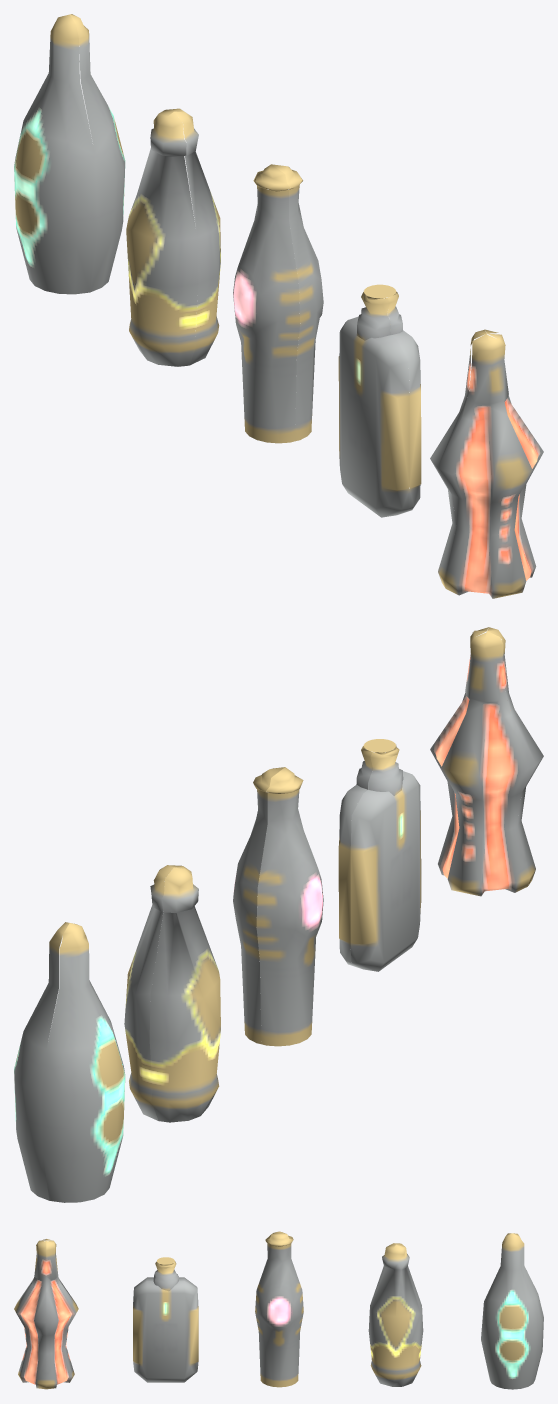
File: bar_bottles_4_a.glb
3 views of the same model, one above another, from view 1: azimuth 30°, elevation 25°; view 2: azimuth 150°, elevation 25°; view 3: azimuth 270°, elevation 25° (orthographic). The views are drawn at different scales.
Visible parts, largest first — view 1: bar_bottles_4; view 2: bar_bottles_4; view 3: bar_bottles_4.
Part boxes in pixels (x1,y1,x2,y2): bar_bottles_4: (14, 14, 543, 598); bar_bottles_4: (14, 627, 543, 1202); bar_bottles_4: (14, 1231, 543, 1389).
Size of the model in its own units: 0.1321 by 0.3335 by 1.09.
1 material, 1 textured.
